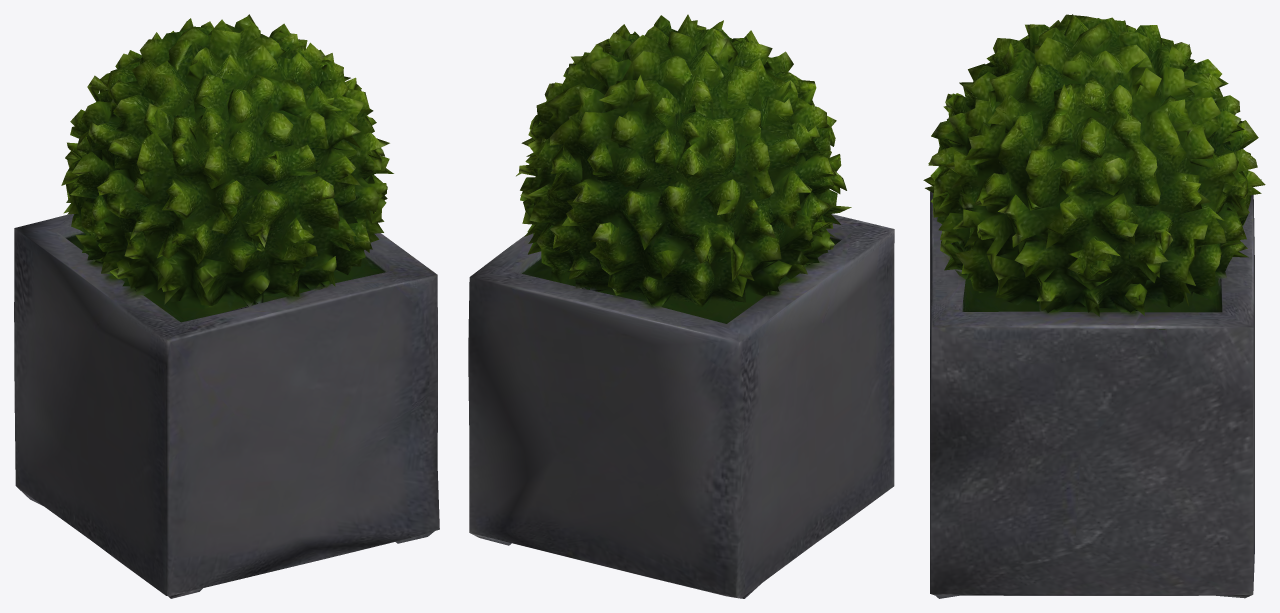
Rendered from prop.planter.glb.
The picture shows the model from 3 angles, left to right: view 1: azimuth 30°, elevation 25°; view 2: azimuth 150°, elevation 25°; view 3: azimuth 270°, elevation 25°; orthographic projection. The views are drawn at different scales.
Visible parts, largest first — view 1: tripo_node_e514ef87-5b20-48d2-8430-74c822cf77ed; view 2: tripo_node_e514ef87-5b20-48d2-8430-74c822cf77ed; view 3: tripo_node_e514ef87-5b20-48d2-8430-74c822cf77ed.
Boxes of the visible parts, x1,y1,x2,y2 form: tripo_node_e514ef87-5b20-48d2-8430-74c822cf77ed: [14, 14, 439, 598]; tripo_node_e514ef87-5b20-48d2-8430-74c822cf77ed: [468, 14, 894, 598]; tripo_node_e514ef87-5b20-48d2-8430-74c822cf77ed: [923, 14, 1265, 598].
Size of the model in its own units: 0.6105 by 1 by 0.6104.
Materials: 1 (1 with a texture image).
